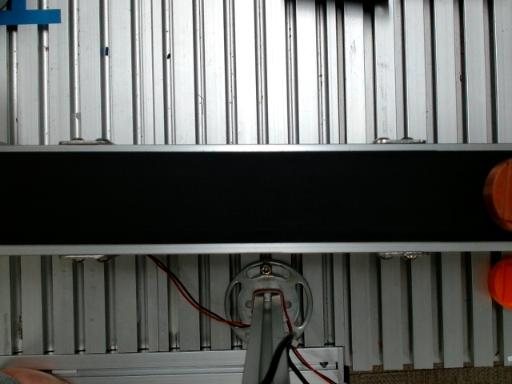Brown_Waper: (484, 158, 511, 231)
